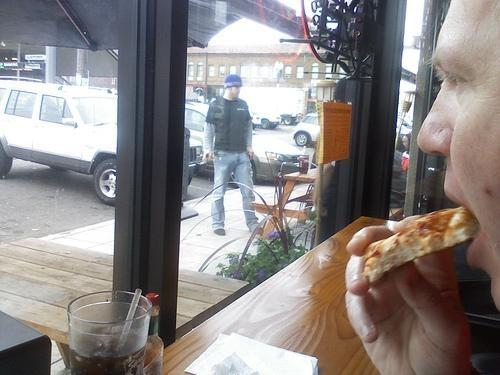car: (252, 134, 302, 186), (184, 101, 211, 151), (292, 112, 320, 147), (250, 112, 281, 128)
truck: (0, 78, 205, 206), (237, 87, 309, 125)
